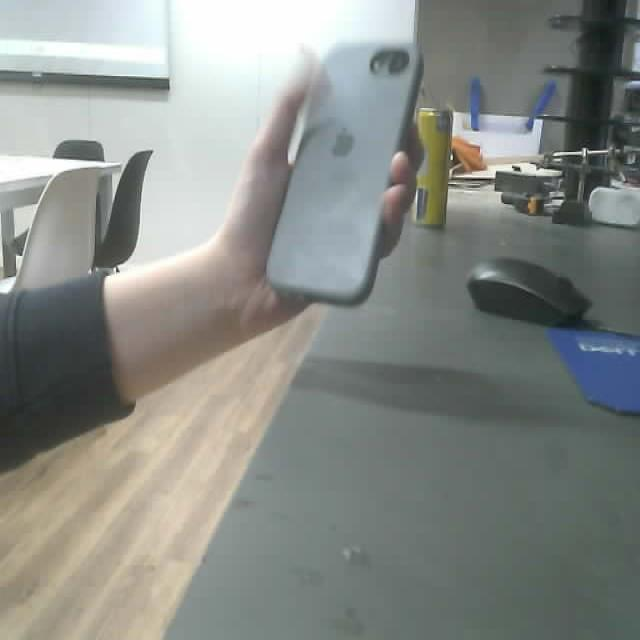phone: (265, 38, 428, 310)
